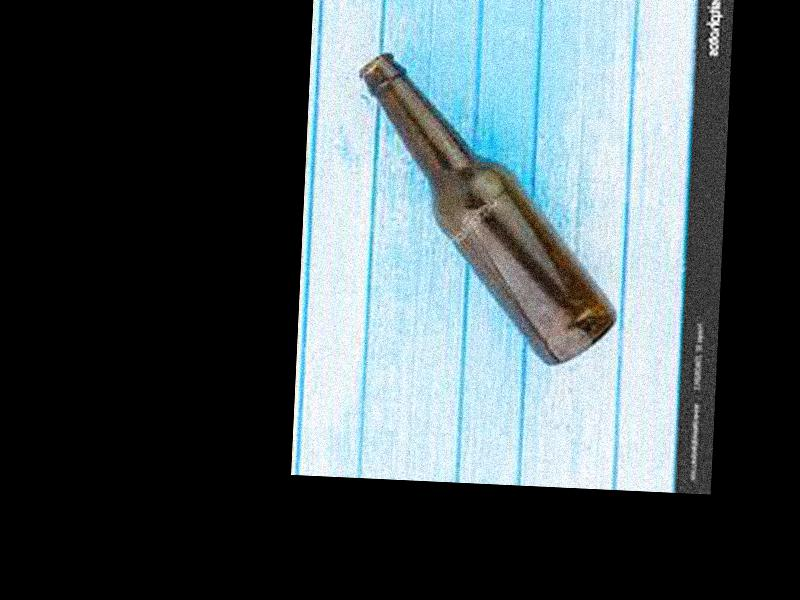Beer: (345, 54, 632, 369)
